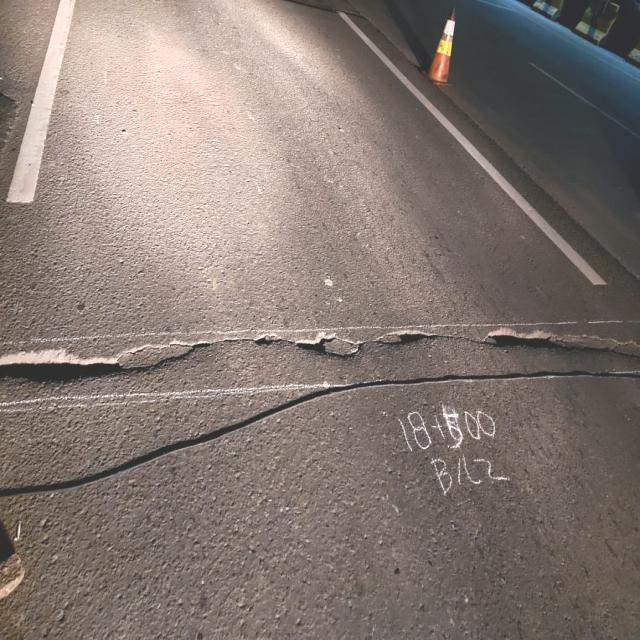Buraco: (0, 336, 214, 389), (482, 325, 640, 361), (294, 330, 368, 362), (372, 328, 442, 348)
